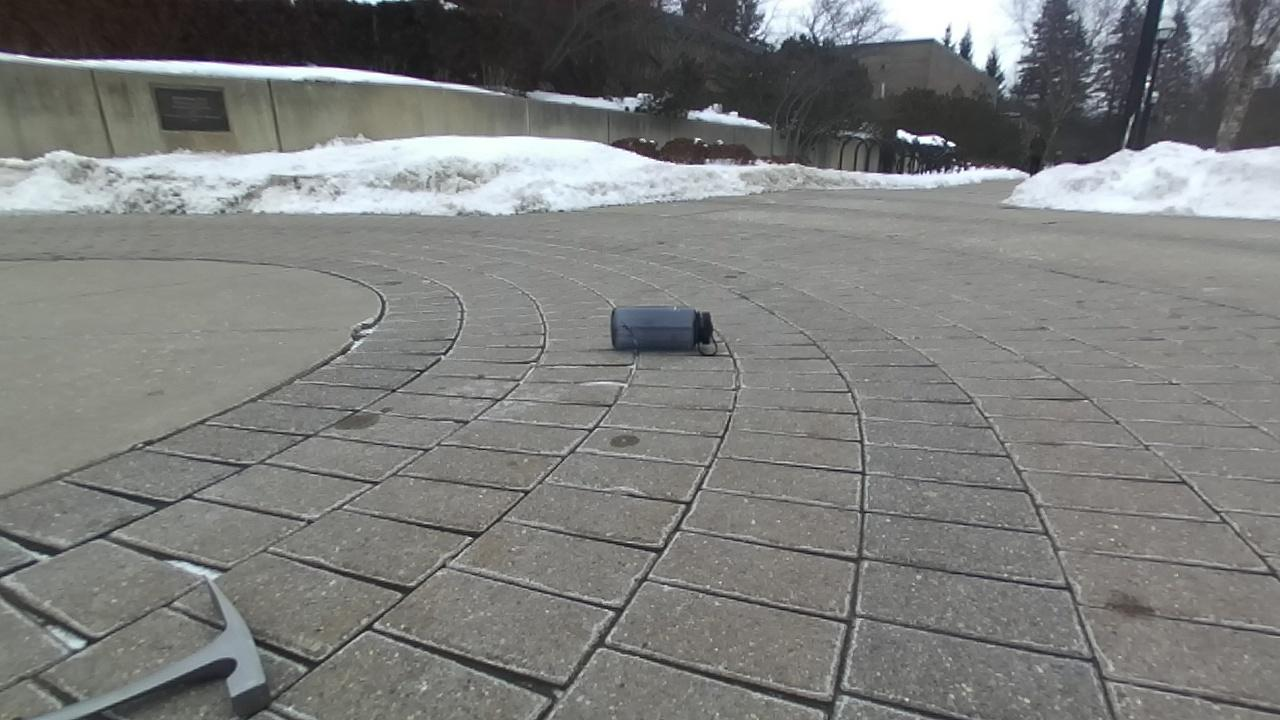bottle: (610, 306, 718, 355)
